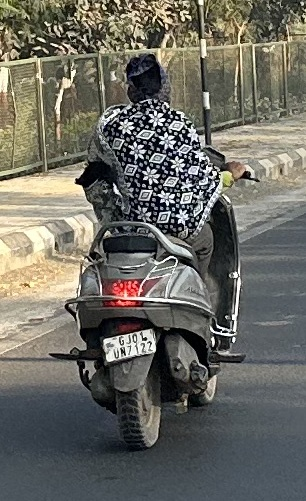BikeWithRider: (43, 47, 265, 457)
NoHelmet: (116, 48, 177, 112)
